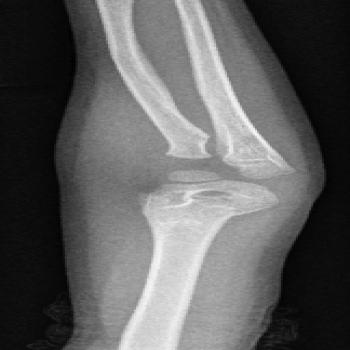Fracture: (148, 142, 226, 194)
